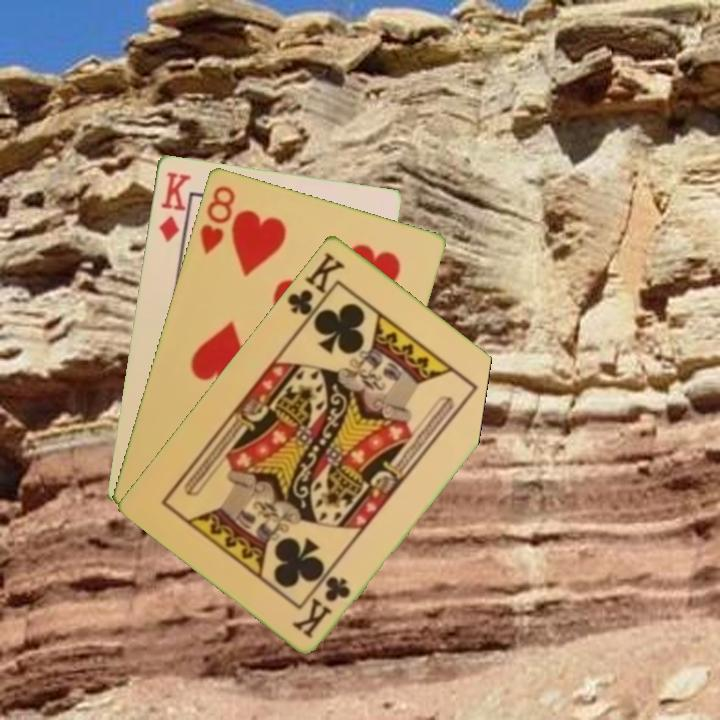8h: (196, 181, 238, 258)
Kc: (283, 248, 348, 327), (289, 572, 354, 641)
Kd: (155, 167, 193, 244)
